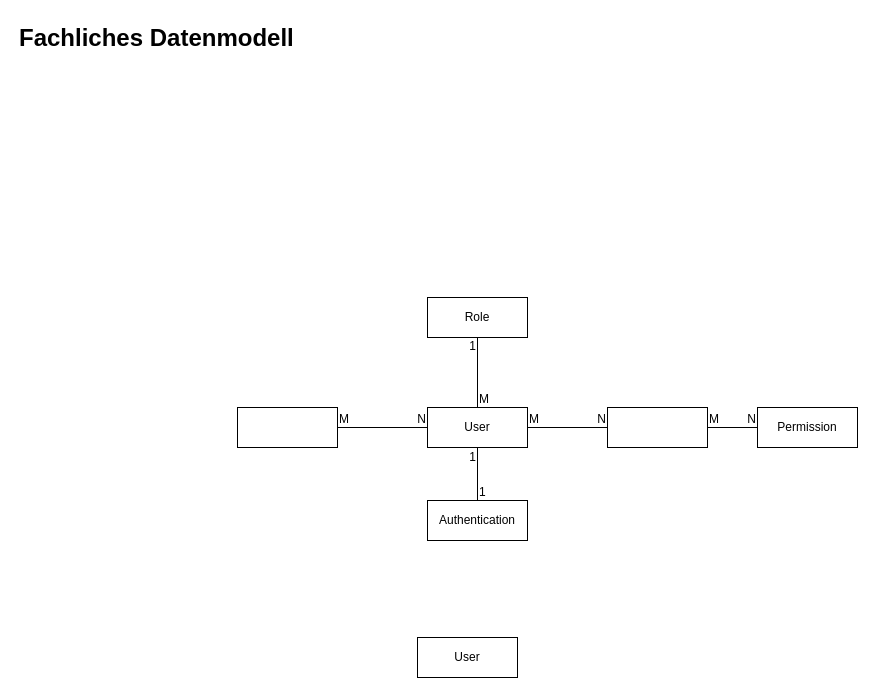
The diagram is 875 pixels wide and 695 high, and some of its shapes have lost their labels. The shapes that lost their labels are listed below. From the top down, each one's box as (x1, y1, x2, y2) in pixels, then its label:
(236, 406, 338, 448): Chat
(606, 406, 708, 448): Group
